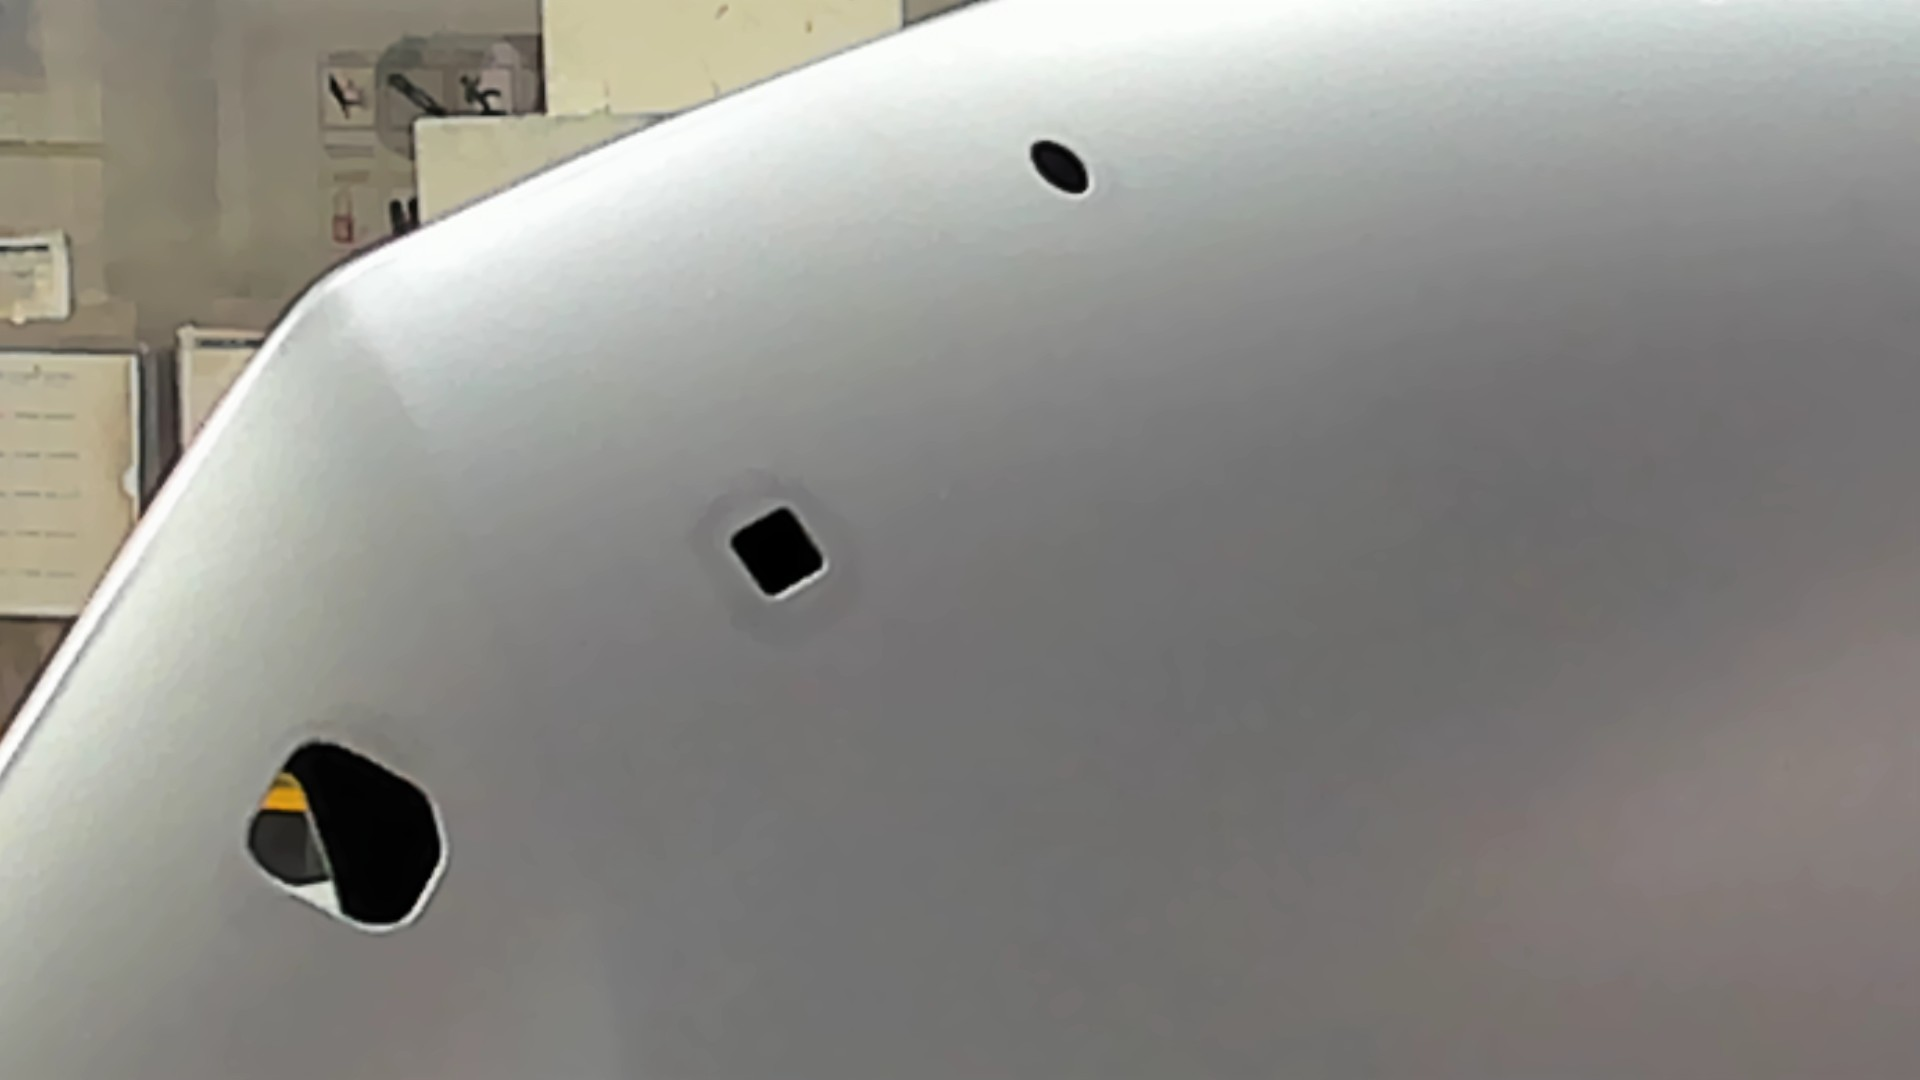capo: (839, 210, 1920, 1080)
chico: (1025, 135, 1100, 204)
grande: (237, 733, 452, 938)
mediano: (721, 501, 832, 611)
